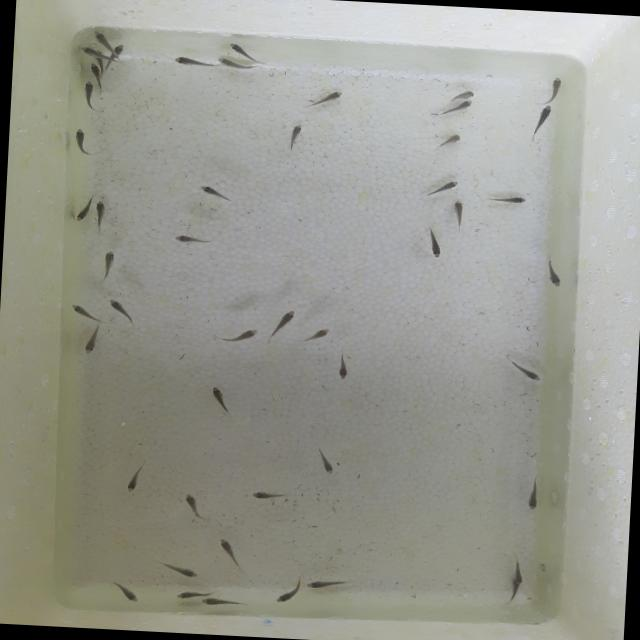fingerling: (418, 178, 462, 204), (268, 305, 300, 338), (418, 227, 448, 260), (181, 492, 211, 524), (538, 256, 566, 290), (522, 476, 546, 513), (508, 360, 548, 382), (220, 326, 258, 349), (210, 381, 238, 412), (311, 444, 338, 476), (122, 460, 146, 496), (96, 248, 119, 284), (159, 560, 200, 580), (195, 184, 234, 203), (69, 302, 101, 325), (280, 122, 306, 150), (82, 327, 106, 357), (170, 232, 214, 248), (243, 489, 297, 502), (104, 299, 134, 322), (312, 88, 343, 110), (536, 105, 558, 136), (113, 582, 140, 606), (218, 536, 240, 565), (168, 56, 211, 70), (304, 325, 334, 345), (173, 585, 206, 603), (546, 72, 566, 101), (272, 586, 302, 605), (436, 132, 464, 152), (197, 595, 240, 608), (70, 125, 92, 150), (82, 78, 100, 108), (307, 576, 352, 588), (73, 200, 92, 228), (492, 195, 532, 208), (335, 351, 351, 382), (228, 41, 255, 59), (217, 58, 251, 72), (452, 198, 467, 228), (92, 30, 112, 52), (452, 97, 476, 113), (76, 46, 102, 60), (454, 88, 479, 102), (95, 200, 107, 227), (513, 558, 524, 582), (89, 62, 102, 81), (113, 42, 129, 56), (509, 578, 517, 600)
